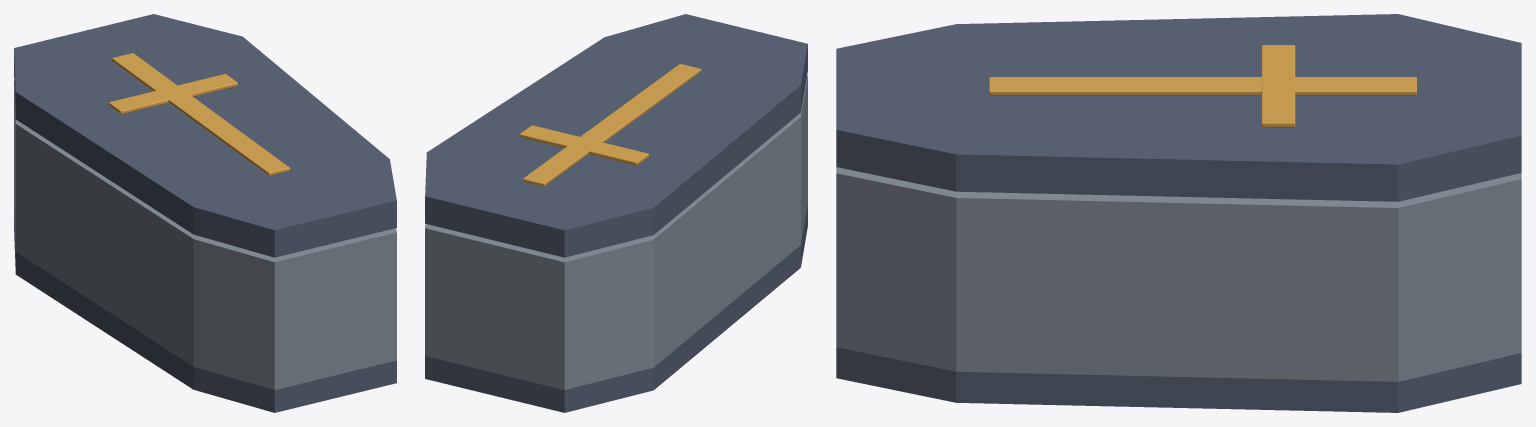
The model's file is stone-sarcophagus.glb.
3 renders of one model, left to right at view 1: azimuth 30°, elevation 25°; view 2: azimuth 150°, elevation 25°; view 3: azimuth 270°, elevation 25°, orthographic. The views are drawn at different scales.
Parts seen in each view (by area): view 1: lid, hollow-walls, coffin-bottom, long-inlay, cross-inlay; view 2: lid, hollow-walls, coffin-bottom, long-inlay, cross-inlay; view 3: hollow-walls, lid, coffin-bottom, long-inlay, cross-inlay.
Part boxes in pixels (left/top/right/bottom): lid: left=14, top=14, right=396, bottom=257; hollow-walls: left=14, top=80, right=396, bottom=389; coffin-bottom: left=14, top=210, right=396, bottom=412; long-inlay: left=111, top=53, right=290, bottom=175; cross-inlay: left=108, top=74, right=237, bottom=114; lid: left=425, top=14, right=807, bottom=257; hollow-walls: left=425, top=75, right=807, bottom=389; coffin-bottom: left=425, top=204, right=807, bottom=412; long-inlay: left=522, top=63, right=701, bottom=186; cross-inlay: left=519, top=125, right=648, bottom=165; hollow-walls: left=836, top=167, right=1521, bottom=381; lid: left=836, top=14, right=1521, bottom=201; coffin-bottom: left=836, top=347, right=1521, bottom=412; long-inlay: left=989, top=77, right=1416, bottom=95; cross-inlay: left=1261, top=45, right=1295, bottom=127.
Bounding box in the file's own units: 1.04 × 0.8185 × 2.
